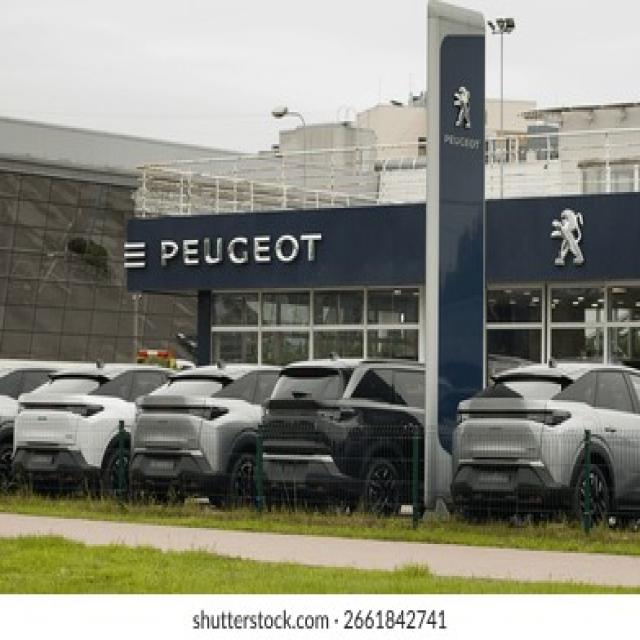pegout: (549, 205, 587, 267), (450, 80, 474, 134)
